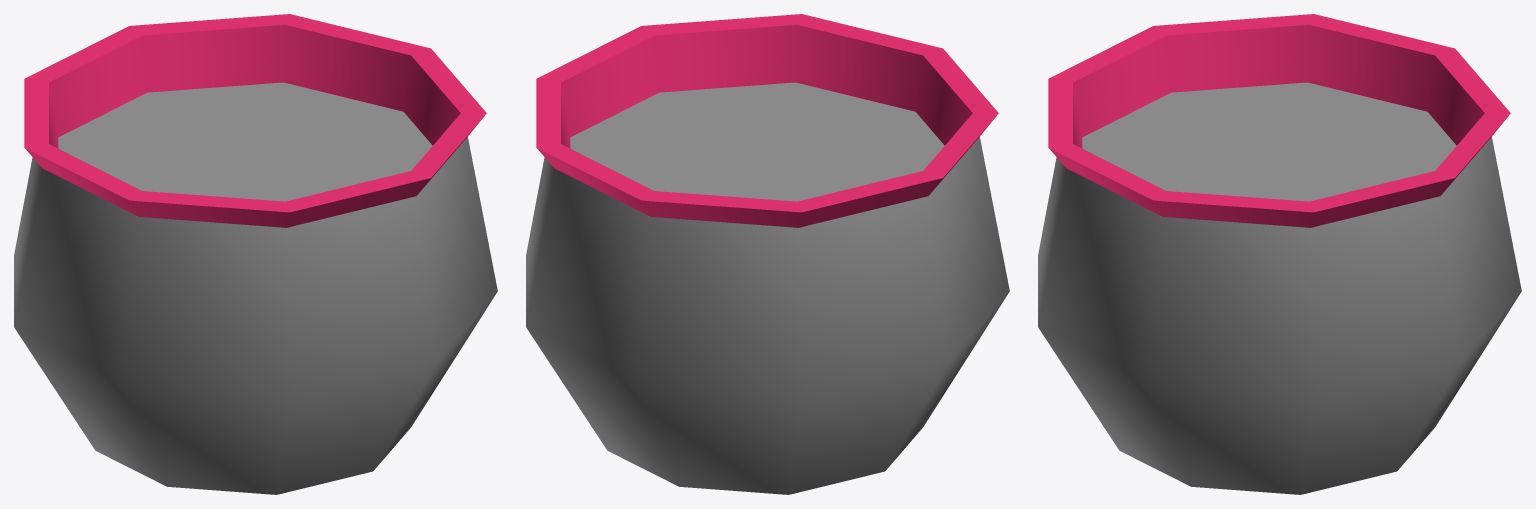
File: vase.FBX
3 renders of one model, left to right at view 1: azimuth 30°, elevation 25°; view 2: azimuth 150°, elevation 25°; view 3: azimuth 270°, elevation 25°, orthographic.
Parts seen in each view (by area): view 1: Sphere091; view 2: Sphere091; view 3: Sphere091.
Boxes of the visible parts, x1,y1,x2,y2 form: Sphere091: (14, 14, 497, 494); Sphere091: (526, 14, 1009, 494); Sphere091: (1038, 14, 1521, 494).
Bounding box in the file's own units: 1.11 × 0.7817 × 1.09.
